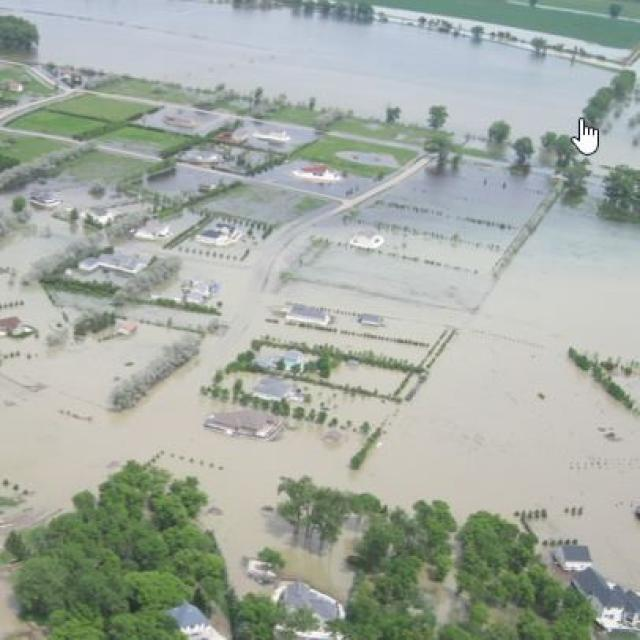flooded_areas: (0, 188, 638, 638)
